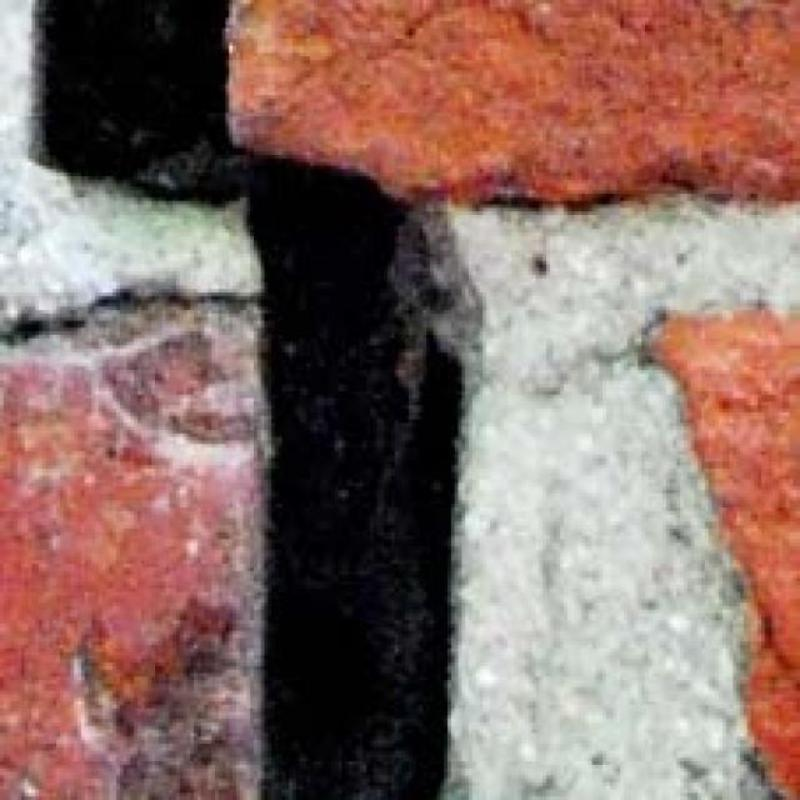pothole: (39, 0, 461, 799), (0, 288, 266, 341)
